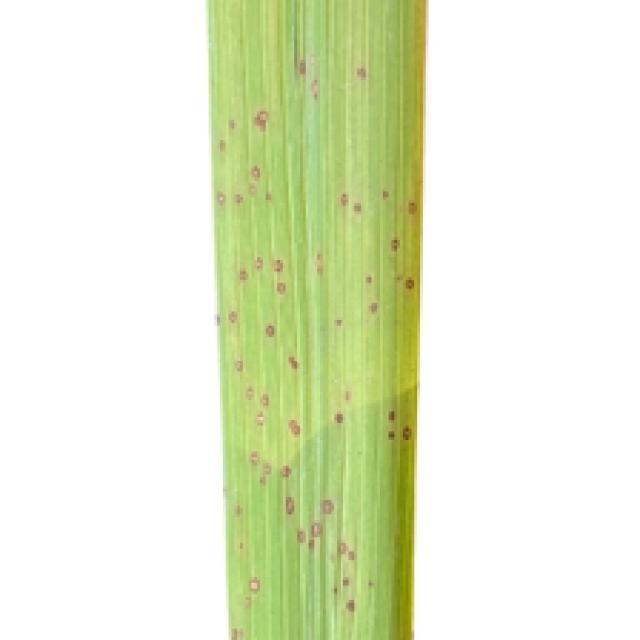Rice___Brown_Spot: (209, 2, 429, 637)
